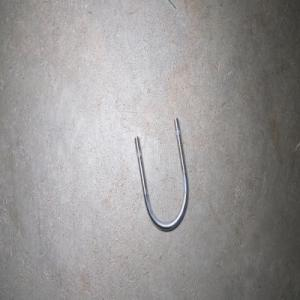ClampPart: (133, 117, 189, 232)
